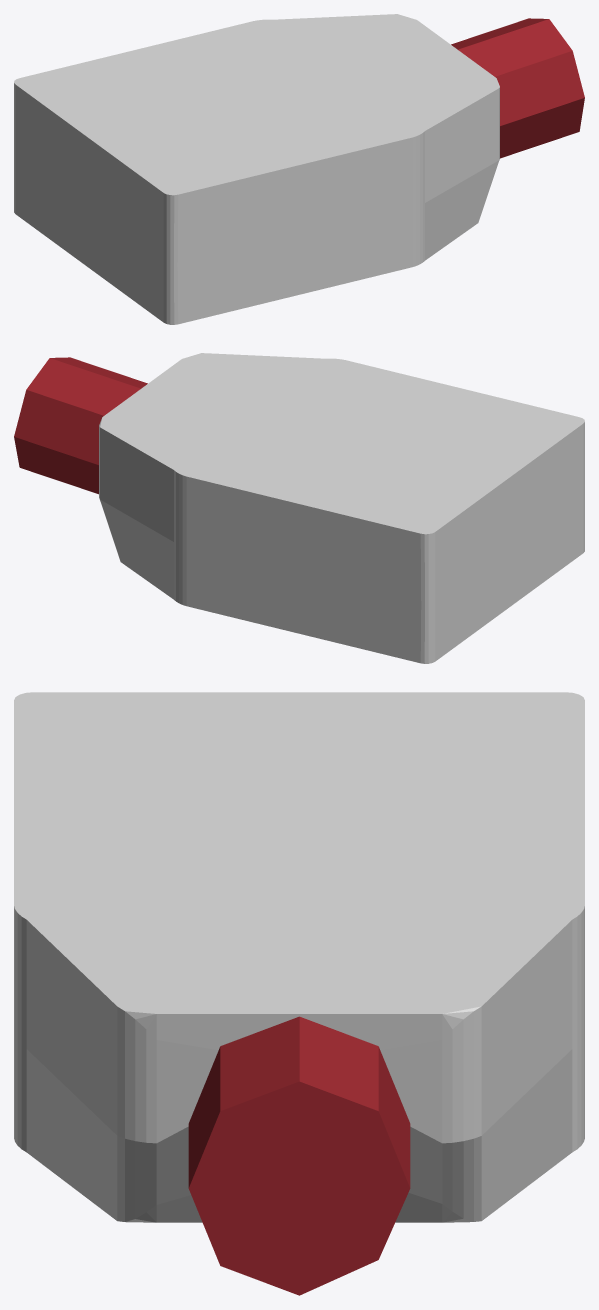
The model's file is tissueCultureFlask.fbx.
The picture shows the model from 3 angles, top to bottom: view 1: azimuth 30°, elevation 25°; view 2: azimuth 150°, elevation 25°; view 3: azimuth 270°, elevation 25°; orthographic projection. The views are drawn at different scales.
Visible parts, largest first — view 1: GlassBottle, Cap; view 2: GlassBottle, Cap; view 3: GlassBottle, Cap.
Boxes of the visible parts, bbox=[...] form: GlassBottle: bbox=[14, 14, 499, 324]; Cap: bbox=[451, 18, 584, 158]; GlassBottle: bbox=[99, 353, 584, 663]; Cap: bbox=[14, 357, 147, 494]; GlassBottle: bbox=[14, 692, 584, 1222]; Cap: bbox=[188, 1016, 410, 1295].
Size of the model in its own units: 102 by 28.57 by 60.
